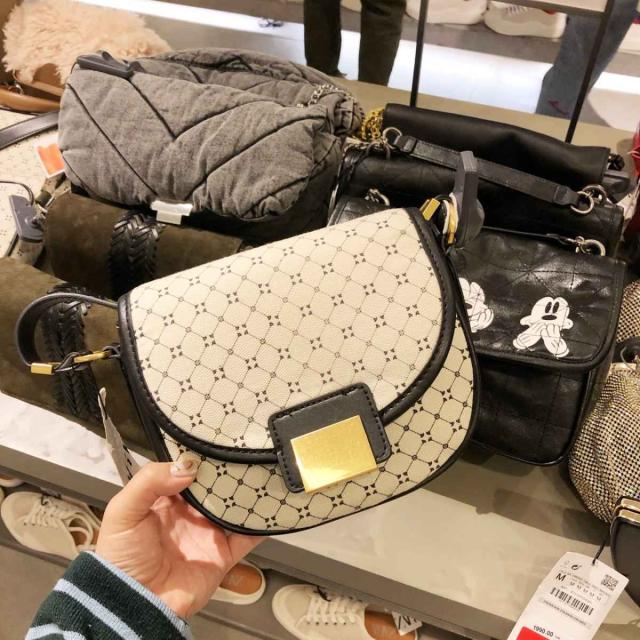bag: (101, 202, 486, 542)
